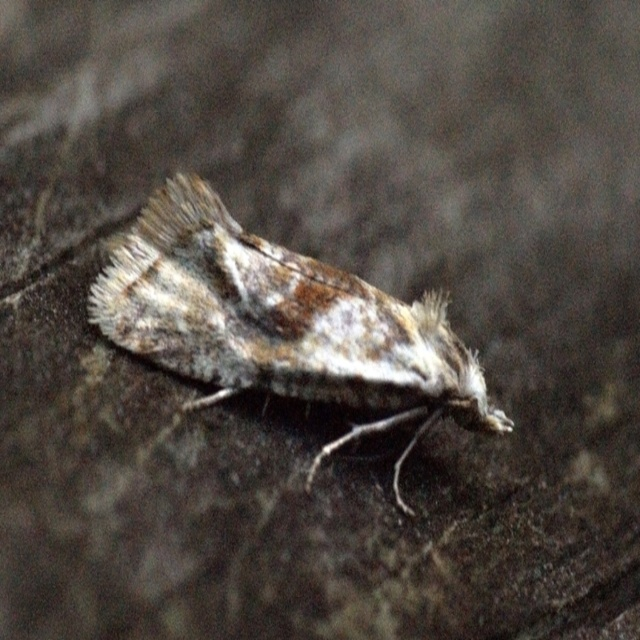Moths and butterflies: (85, 167, 513, 511)
